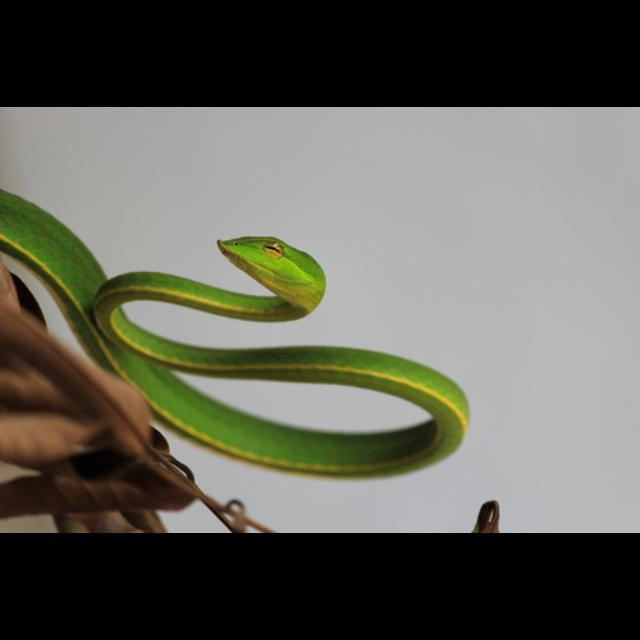snake: (1, 194, 469, 478)
